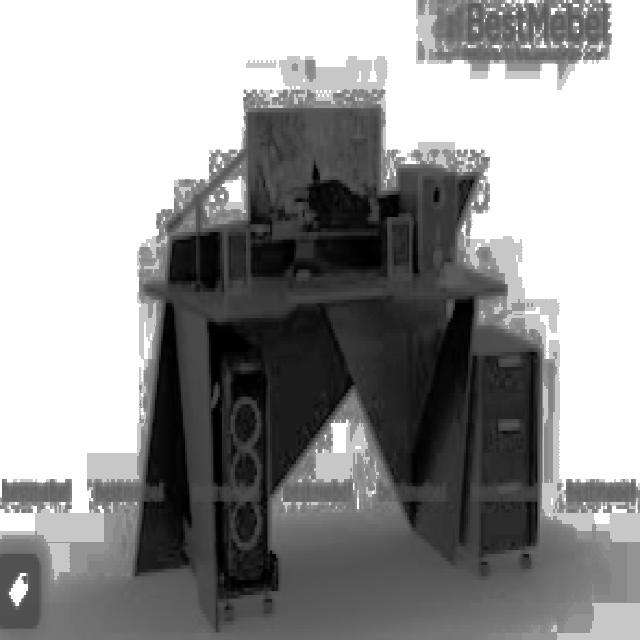table: (142, 258, 507, 629)
